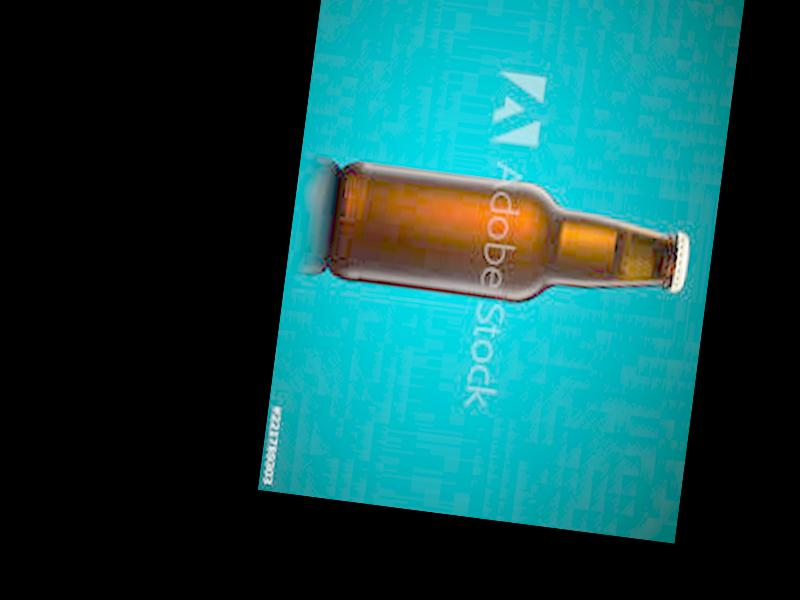Beer: (324, 159, 695, 326)
